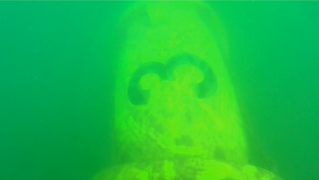3: (127, 52, 218, 105)
pipe: (91, 1, 282, 179)
